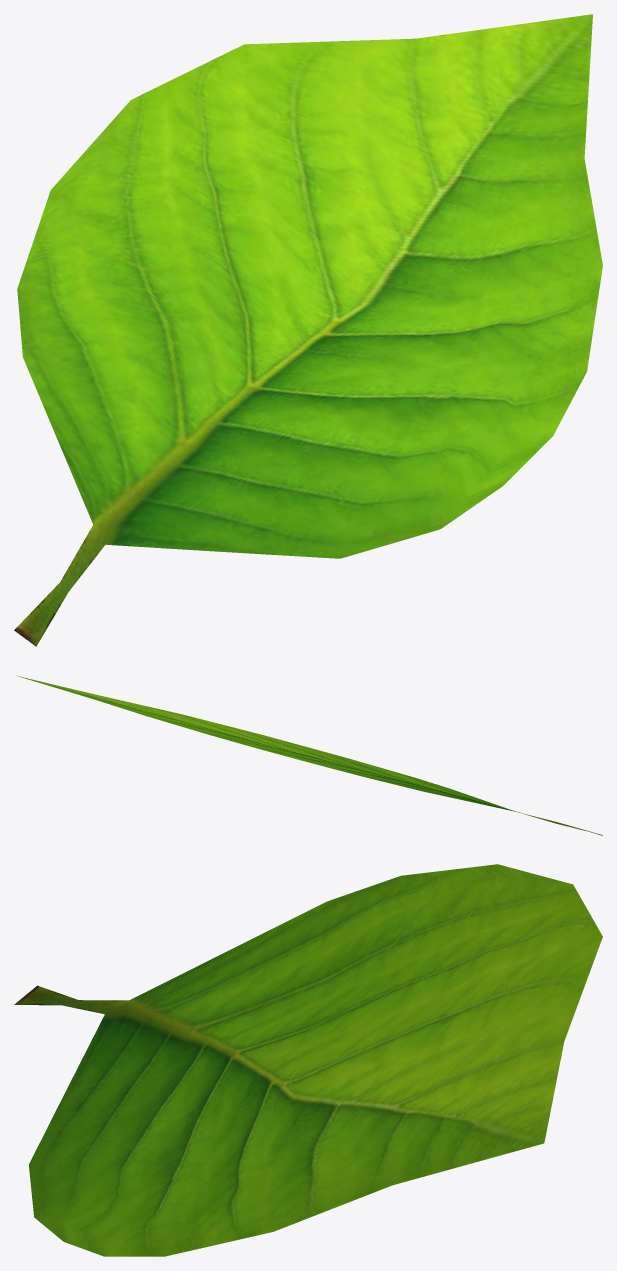
File: leaf2.glb
3 renders of one model, top to bottom at view 1: azimuth 30°, elevation 25°; view 2: azimuth 150°, elevation 25°; view 3: azimuth 270°, elevation 25°, orthographic. The views are drawn at different scales.
Parts seen in each view (by area): view 1: Plane; view 2: Plane; view 3: Plane.
Boxes of the visible parts, x1,y1,x2,y2 form: Plane: (14, 14, 602, 646); Plane: (16, 675, 602, 835); Plane: (14, 864, 602, 1256).
Bounding box in the file's own units: 4.24 × 1.47 × 2.41.
Materials: 1 (1 with a texture image).
